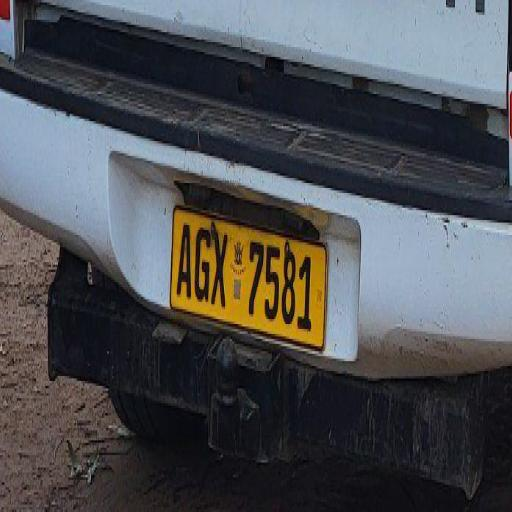number-plates: (173, 206, 315, 334)
